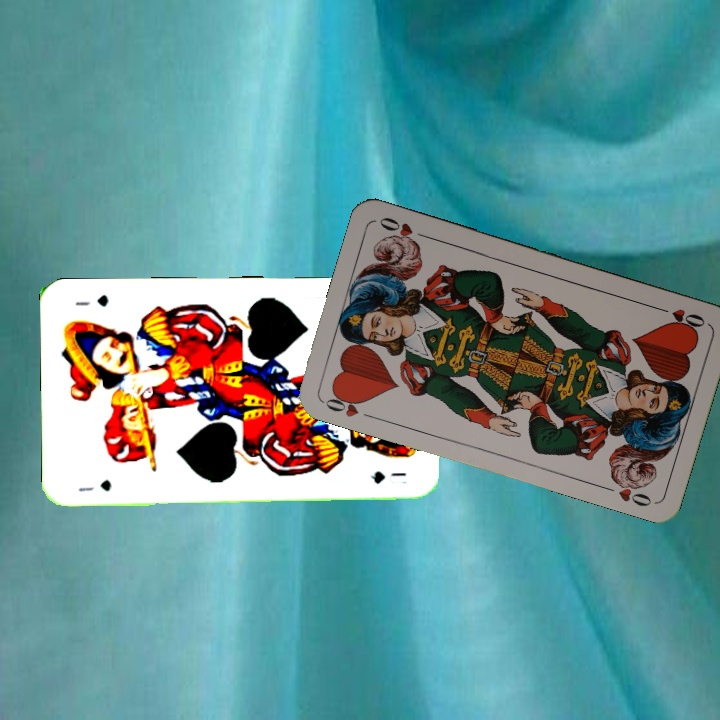GU: (75, 476, 114, 494)
HO: (319, 387, 377, 422), (651, 302, 708, 332)
